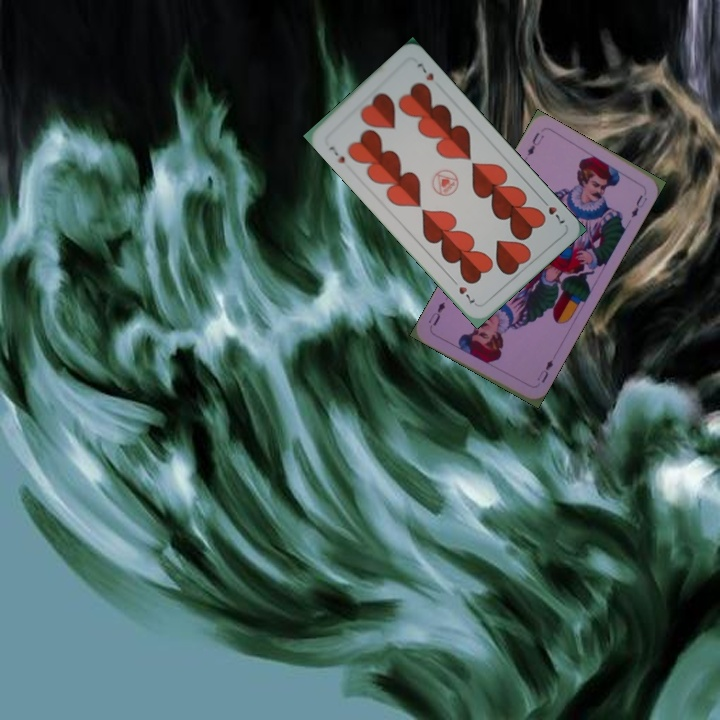EU: (523, 128, 547, 159), (533, 355, 556, 386)
H7: (537, 194, 568, 228), (325, 142, 348, 166)
